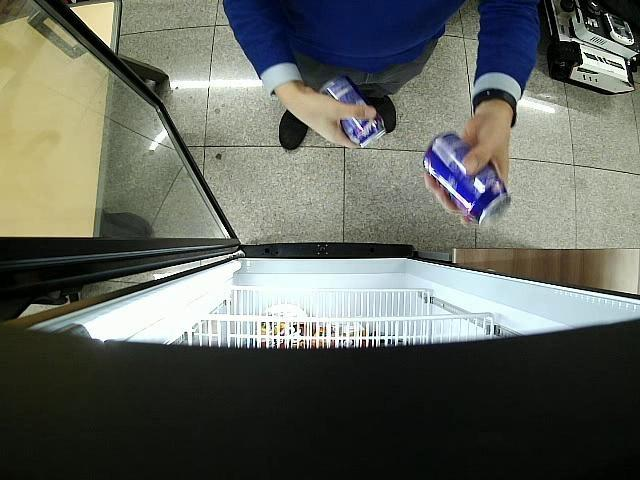14_welchsGrape: (424, 132, 509, 226), (318, 76, 386, 148)
